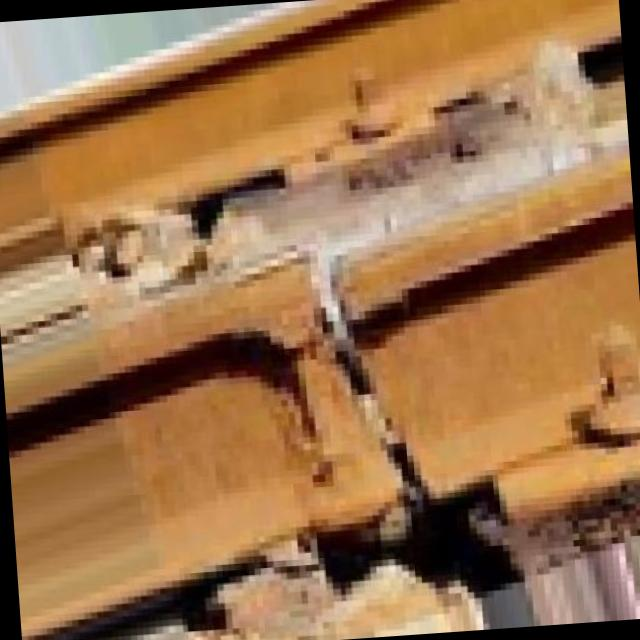defective: (199, 220, 551, 576)
non-defective: (0, 0, 640, 640)
